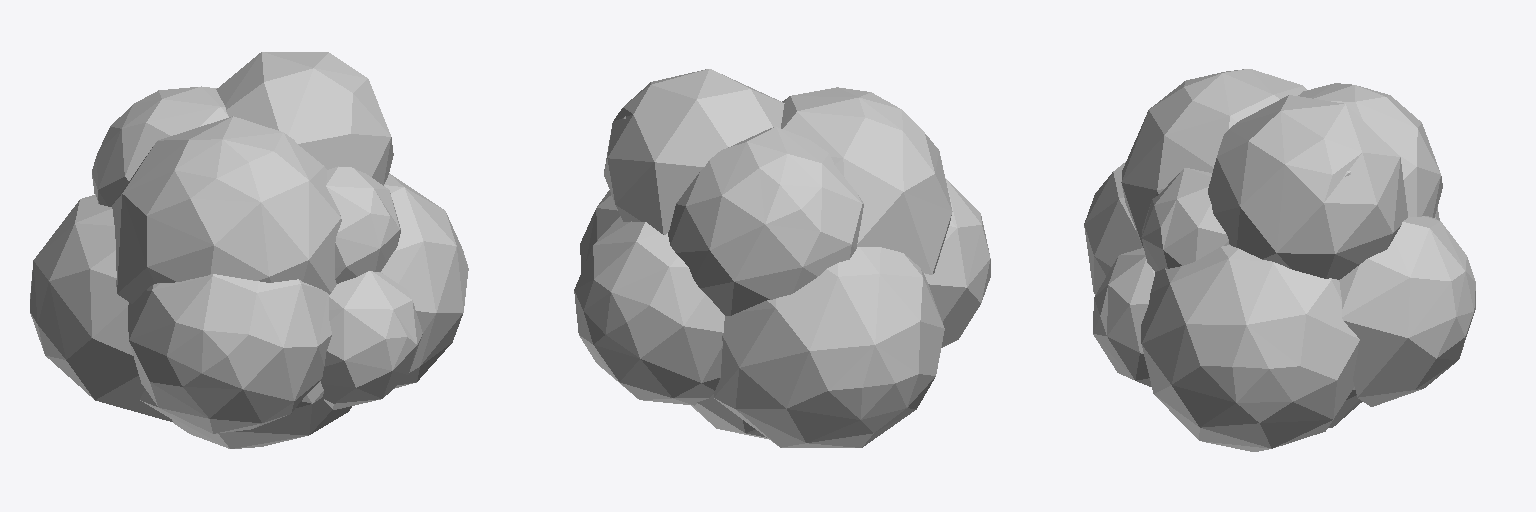
Rendered from tree-bulk.obj.
3 renders of one model, left to right at view 1: azimuth 30°, elevation 25°; view 2: azimuth 150°, elevation 25°; view 3: azimuth 270°, elevation 25°, orthographic.
Parts seen in each view (by area): view 1: Object_391; view 2: Object_391; view 3: Object_391.
Part boxes in pixels (x1,y1,x2,y2): Object_391: (30, 52, 468, 448); Object_391: (574, 69, 990, 447); Object_391: (1084, 69, 1475, 451).
Size of the model in its own units: 15.6 by 14.01 by 14.35.